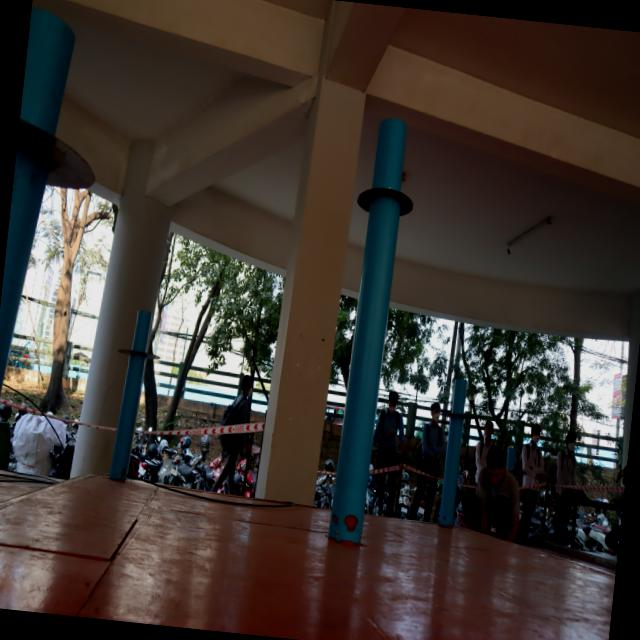pole: (4, 3, 113, 270), (348, 100, 441, 272), (432, 362, 490, 449), (115, 304, 167, 396)
